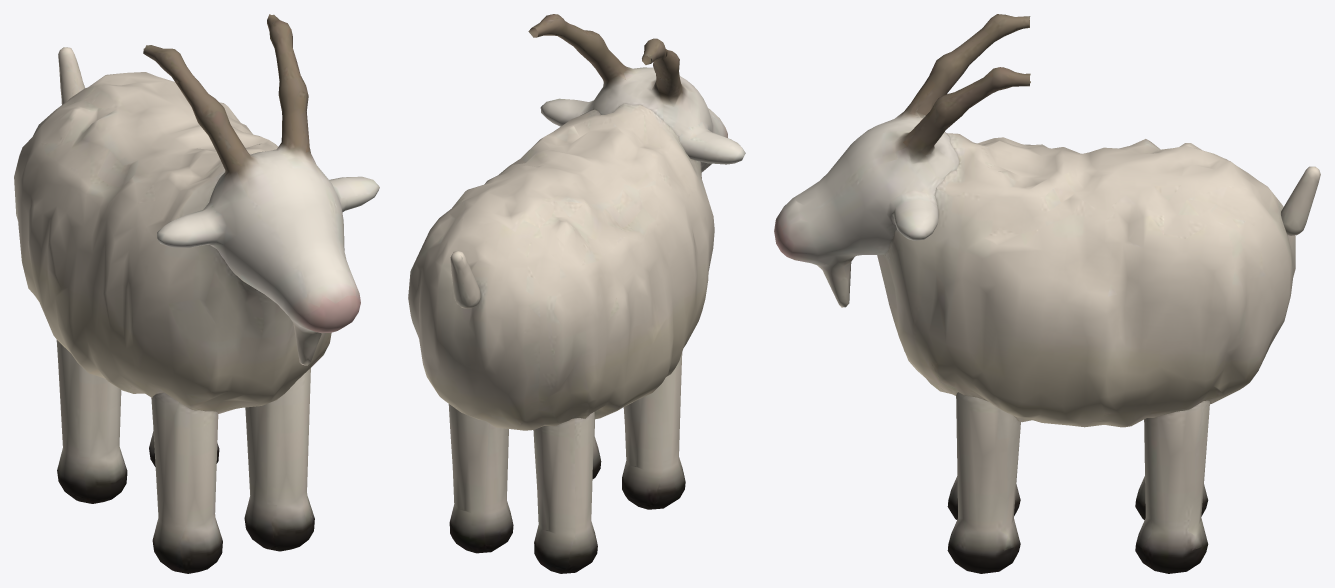
The model's file is animal_cashmere_goat.glb.
3 renders of one model, left to right at view 1: azimuth 30°, elevation 25°; view 2: azimuth 150°, elevation 25°; view 3: azimuth 270°, elevation 25°, orthographic. The views are drawn at different scales.
Parts seen in each view (by area): view 1: animal_cashmere_goat, head, leg0, leg1, leg2, tail; view 2: animal_cashmere_goat, head, leg2, leg3, leg0, tail; view 3: animal_cashmere_goat, head, leg1, leg3, tail.
Boxes of the visible parts, x1,y1,x2,y2 form: animal_cashmere_goat: [14, 72, 331, 413]; head: [143, 14, 379, 365]; leg0: [151, 392, 222, 573]; leg1: [244, 368, 314, 551]; leg2: [56, 340, 127, 503]; tail: [58, 47, 84, 104]; animal_cashmere_goat: [408, 103, 714, 430]; head: [528, 14, 745, 172]; leg2: [533, 412, 597, 573]; leg3: [448, 404, 513, 553]; leg0: [622, 352, 685, 509]; tail: [450, 250, 480, 308]; animal_cashmere_goat: [877, 133, 1295, 427]; head: [774, 14, 1030, 307]; leg1: [947, 392, 1020, 573]; leg3: [1135, 400, 1209, 573]; tail: [1281, 166, 1320, 235].
Bounding box in the file's own units: 0.2513 × 0.5371 × 0.5248.
Materials: 1 (1 with a texture image).
